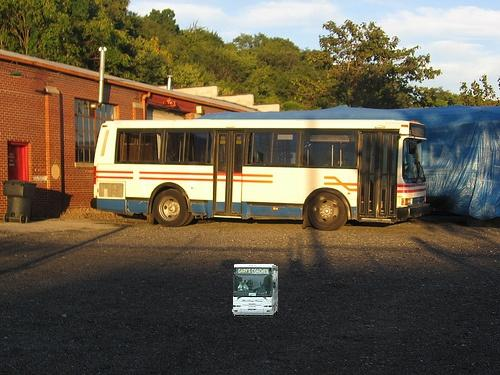tampered: (233, 265, 278, 317)
